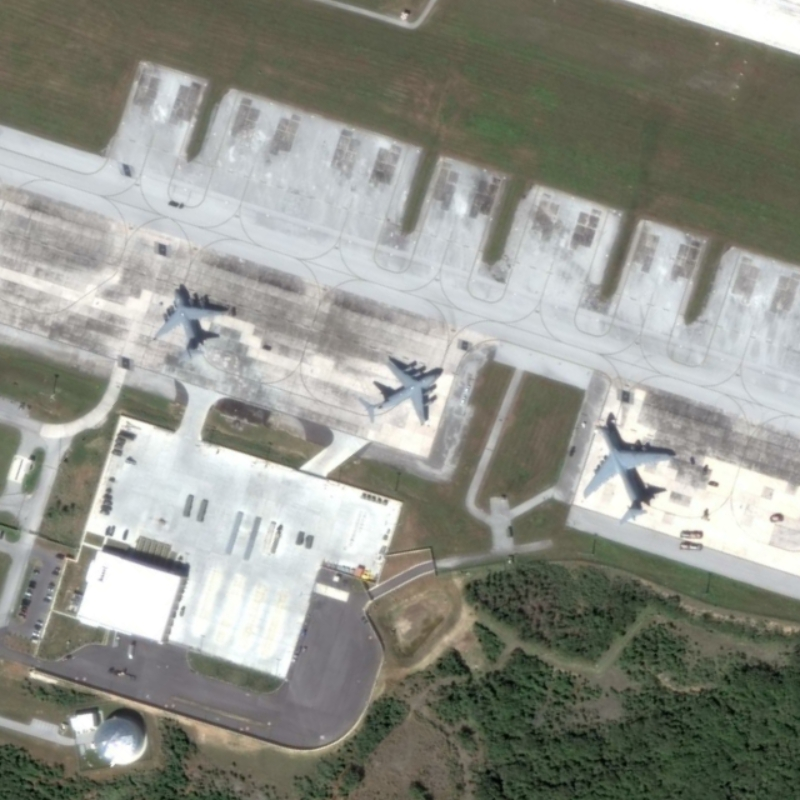A3: (357, 355, 445, 430), (149, 285, 230, 359)
A4: (581, 420, 673, 528)
